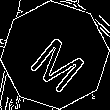M_NE: (21, 21, 89, 89)
